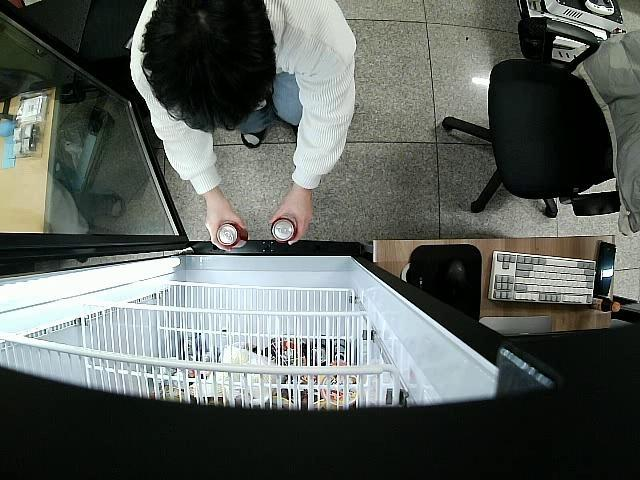11_cocaColaZero: (214, 222, 248, 250), (270, 216, 295, 242)
